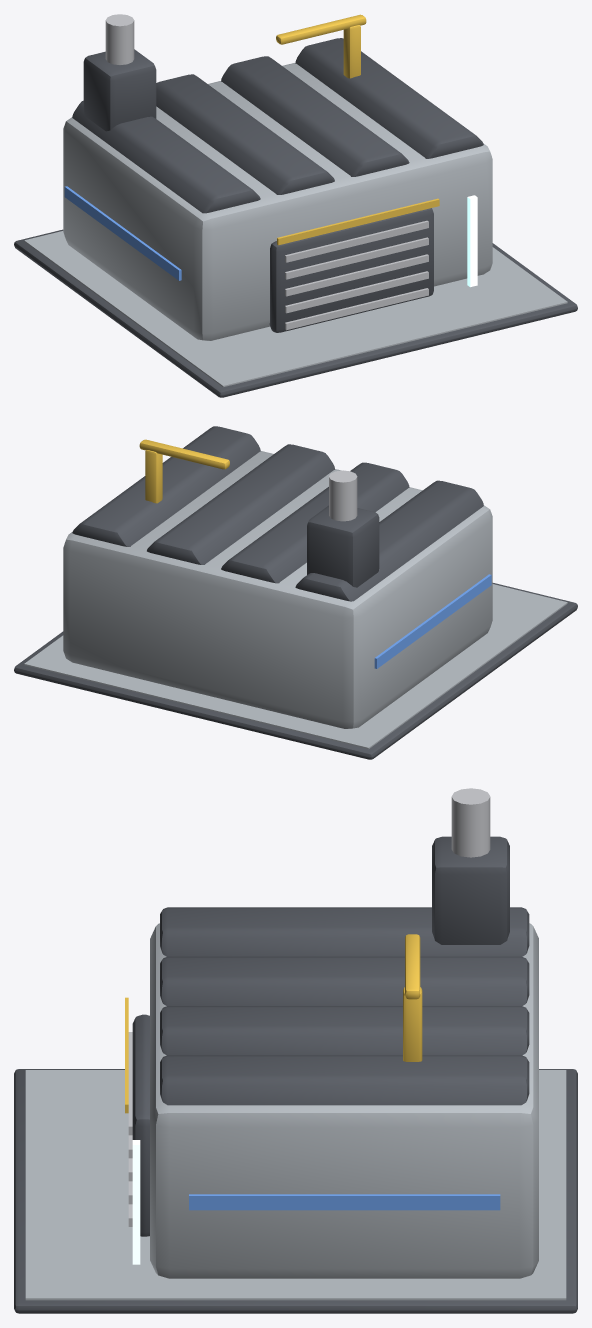
Rendered from factory_hum.glb.
3 renders of one model, top to bottom at view 1: azimuth 30°, elevation 25°; view 2: azimuth 150°, elevation 25°; view 3: azimuth 270°, elevation 25°, orthographic. The views are drawn at different scales.
Visible parts, largest first — view 1: factory_hum; view 2: factory_hum; view 3: factory_hum.
Boxes of the visible parts, left/top/right/bottom form: factory_hum: left=14, top=14, right=577, bottom=397; factory_hum: left=14, top=426, right=577, bottom=759; factory_hum: left=14, top=788, right=577, bottom=1313.
Size of the model in its own units: 2.9 by 1.85 by 2.9.
